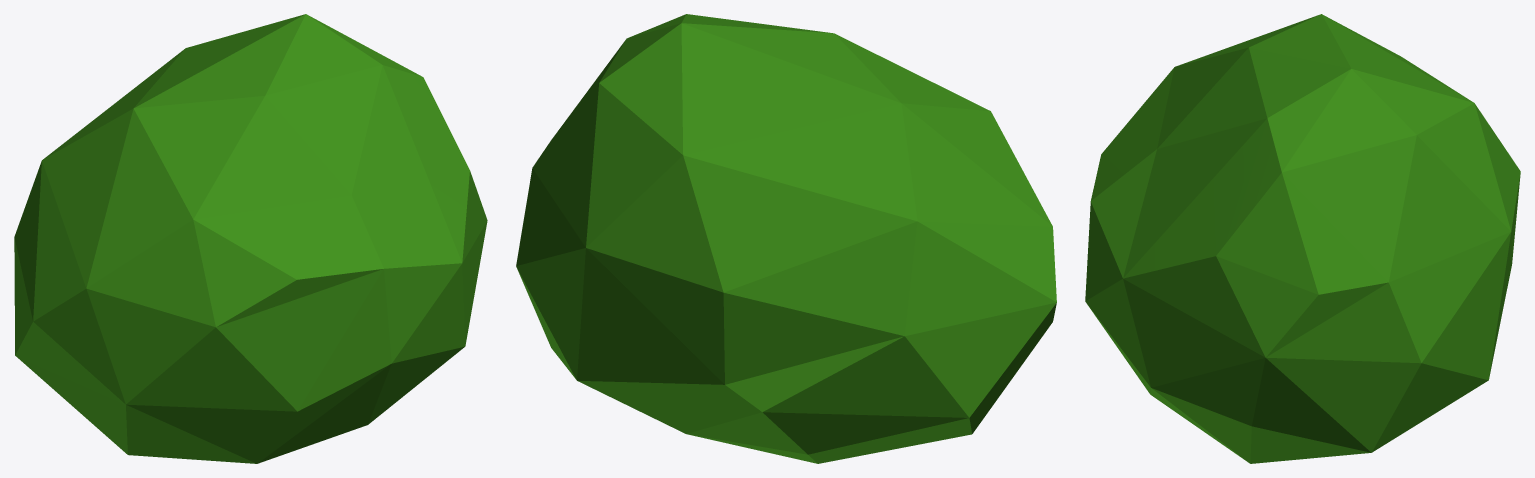
File: BushE.fbx
The picture shows the model from 3 angles, left to right: view 1: azimuth 30°, elevation 25°; view 2: azimuth 150°, elevation 25°; view 3: azimuth 270°, elevation 25°; orthographic projection. The views are drawn at different scales.
Visible parts, largest first — view 1: bushE_geo; view 2: bushE_geo; view 3: bushE_geo.
Part boxes in pixels (x1,y1,x2,y2): bushE_geo: (14, 14, 487, 463); bushE_geo: (516, 14, 1056, 463); bushE_geo: (1085, 14, 1520, 463).
Size of the model in its own units: 140 by 111 by 113.
